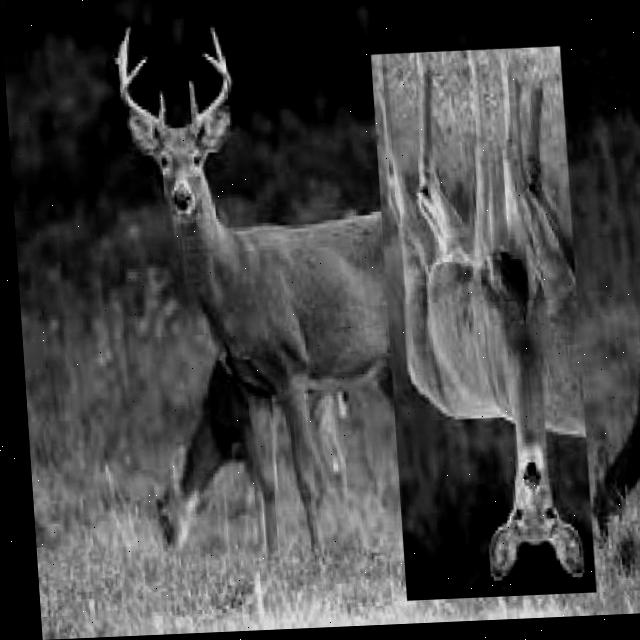Deer: (371, 46, 599, 601)
